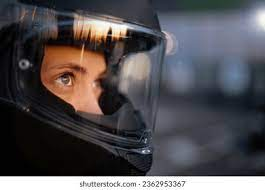helmets: (0, 0, 163, 181)
